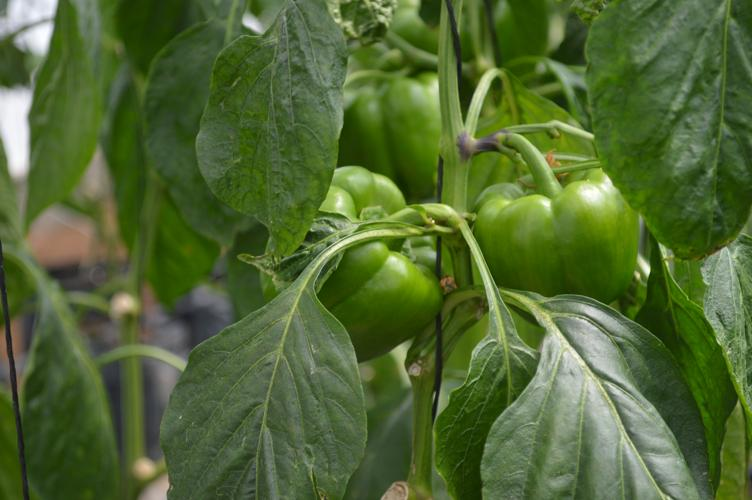BellPepper: (307, 163, 440, 359), (468, 163, 643, 300), (337, 72, 445, 192)
